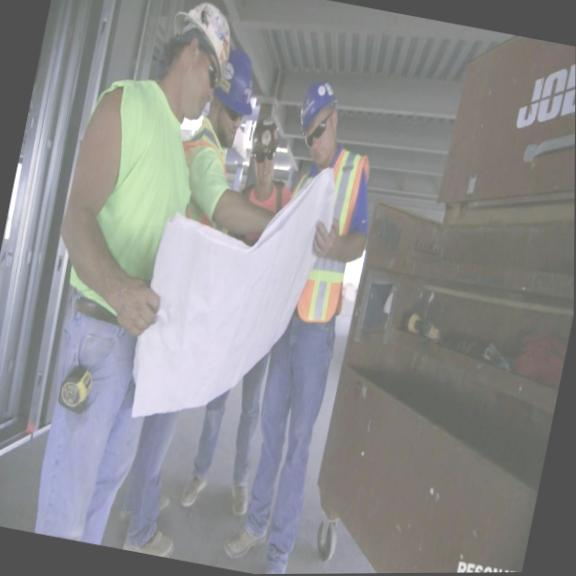safety_vest: (269, 137, 376, 325), (169, 113, 240, 229)
